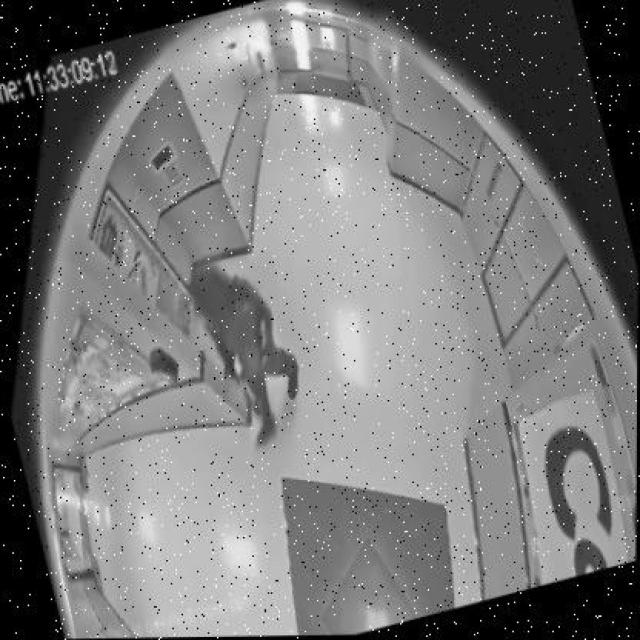weapon: (203, 320, 257, 411)
